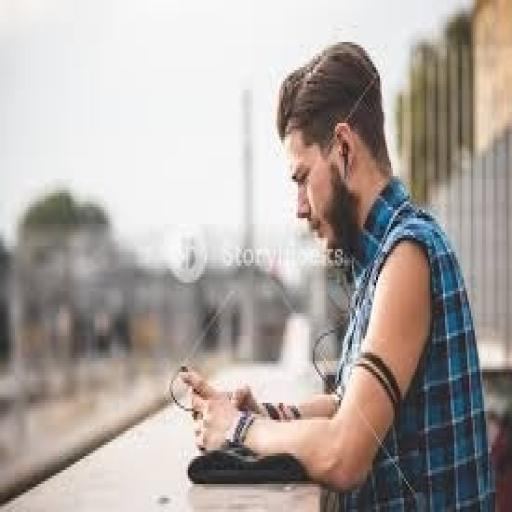texting: (175, 36, 495, 510)
